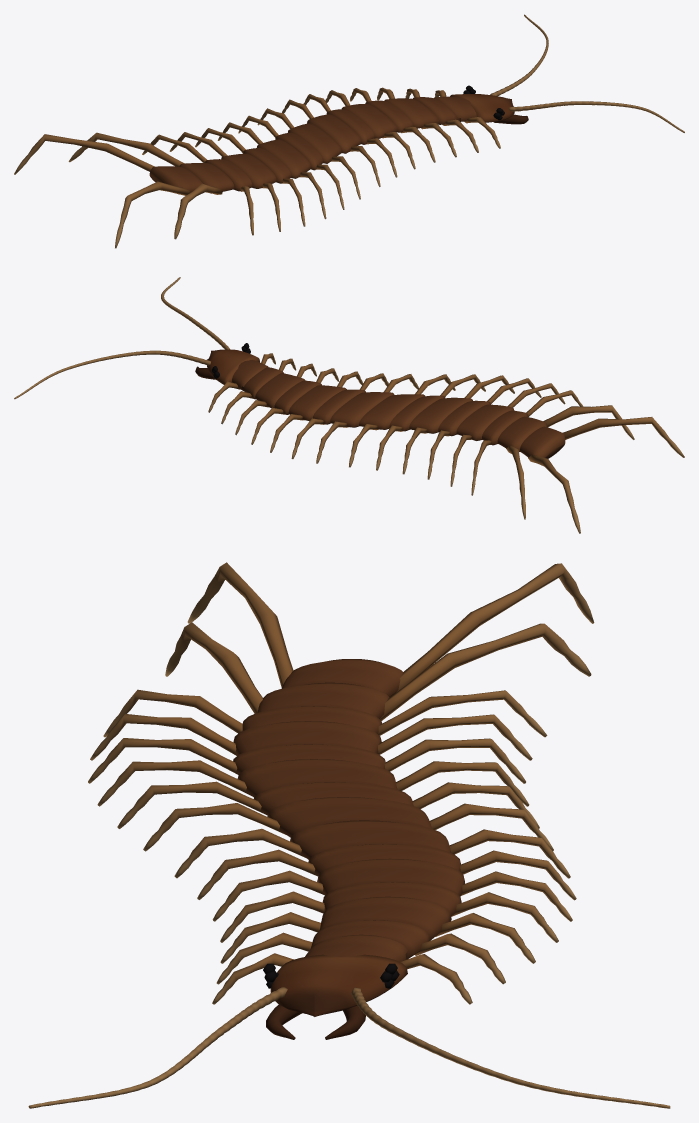
File: centipede.glb
The picture shows the model from 3 angles, top to bottom: view 1: azimuth 30°, elevation 25°; view 2: azimuth 150°, elevation 25°; view 3: azimuth 270°, elevation 25°; orthographic projection. The views are drawn at different scales.
Visible parts, largest first — view 1: centipede; view 2: centipede; view 3: centipede.
Part boxes in pixels (box(x1,y1,x2,y2)): centipede: box(14, 14, 684, 248); centipede: box(14, 277, 684, 533); centipede: box(28, 562, 670, 1108).
Bounding box in the file's own units: 1.57 × 0.1158 × 0.8216.
